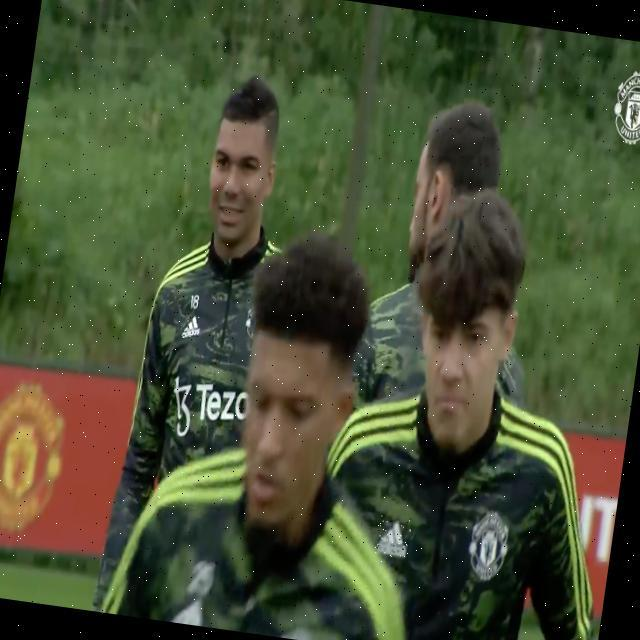Adidas: (374, 514, 413, 561), (180, 313, 203, 342)
